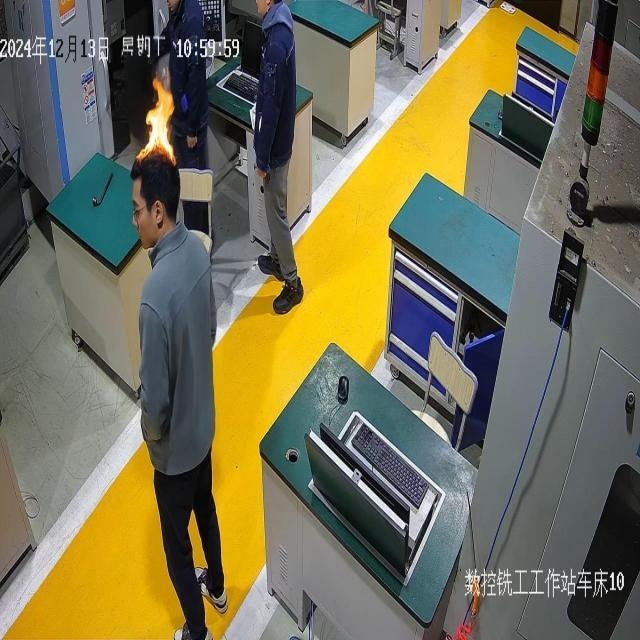smoke: (138, 70, 178, 166)
